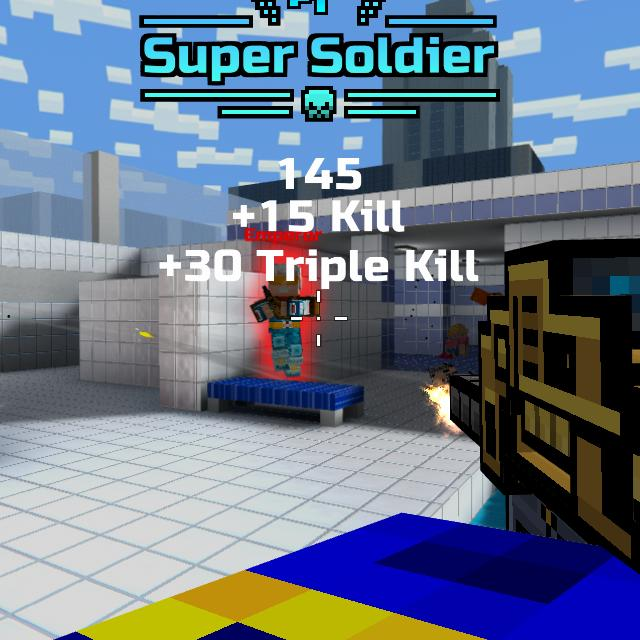Enemy: (249, 263, 320, 378)
